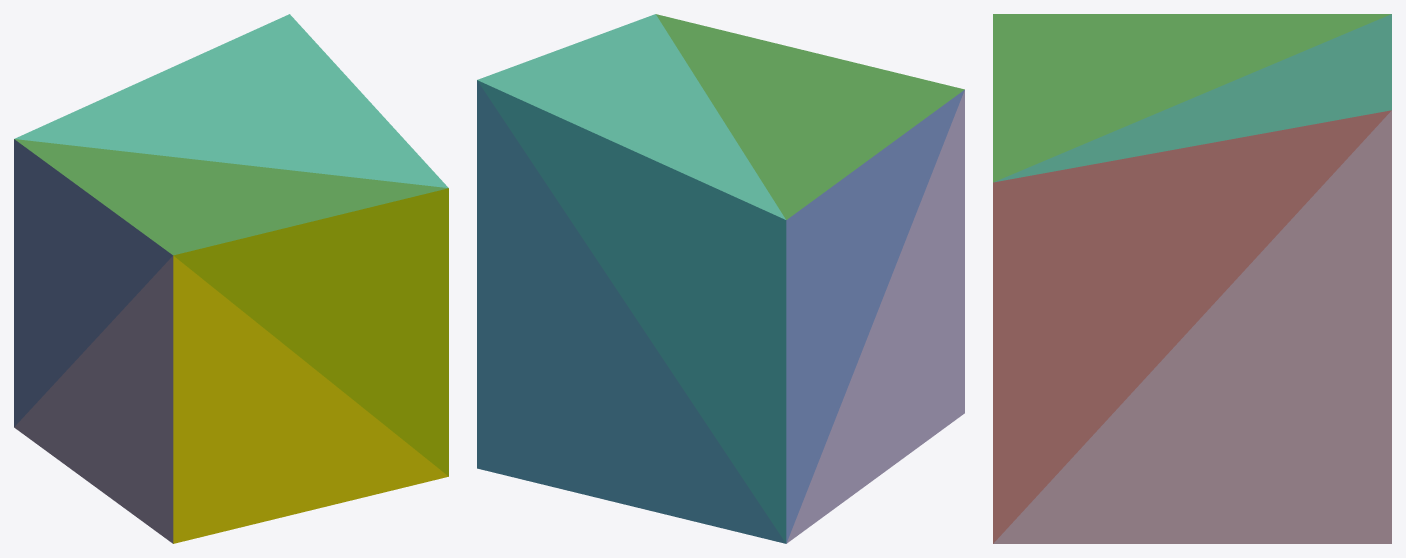
Rendered from cube_raised.gltf.
The picture shows the model from 3 angles, left to right: view 1: azimuth 30°, elevation 25°; view 2: azimuth 150°, elevation 25°; view 3: azimuth 270°, elevation 25°; orthographic projection. The views are drawn at different scales.
Visible parts, largest first — view 1: Cube.002; view 2: Cube.002; view 3: Cube.002.
Boxes of the visible parts, x1=… form: Cube.002: x1=14, y1=14, x2=448, y2=543; Cube.002: x1=477, y1=14, x2=964, y2=543; Cube.002: x1=993, y1=14, x2=1391, y2=543.
Size of the model in its own units: 1 by 1.2 by 1.
